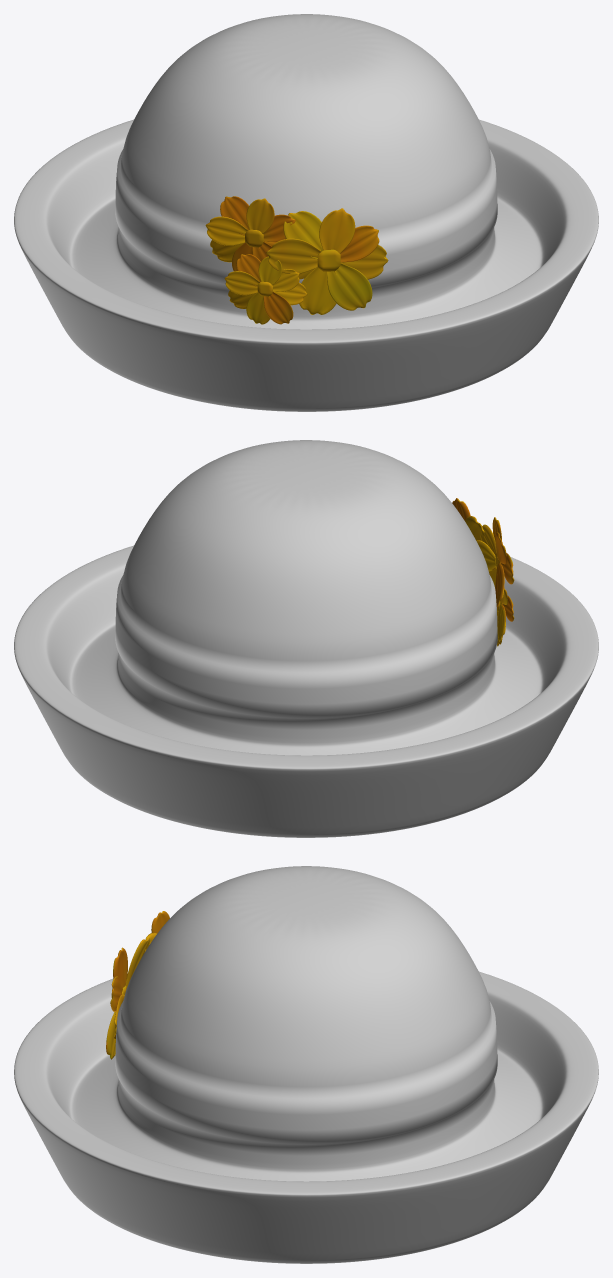
The model's file is FlowerHat.fbx.
The picture shows the model from 3 angles, top to bottom: view 1: azimuth 30°, elevation 25°; view 2: azimuth 150°, elevation 25°; view 3: azimuth 270°, elevation 25°; orthographic projection.
Visible parts, largest first — view 1: Cube.001; view 2: Cube.001; view 3: Cube.001.
Boxes of the visible parts, x1,y1,x2,y2 form: Cube.001: (14,14,598,411); Cube.001: (14,440,598,837); Cube.001: (14,866,598,1263).
Bounding box in the file's own units: 93.11 × 46.12 × 93.11.
